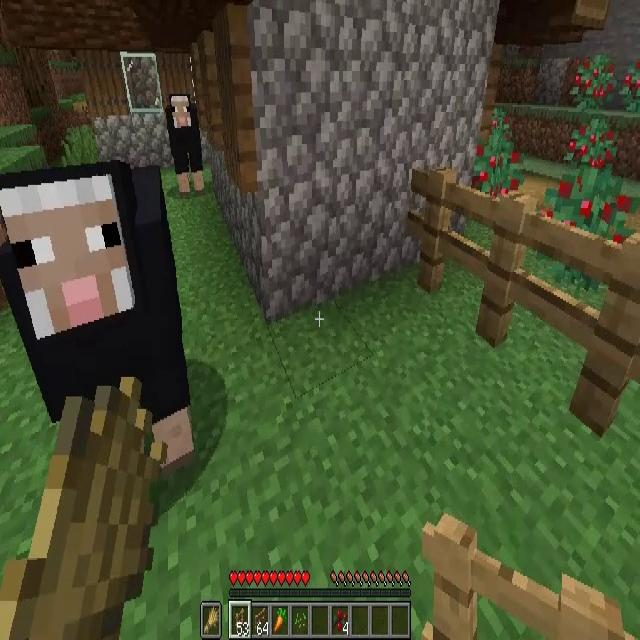sheep: (9, 173, 197, 482), (167, 92, 202, 195)
